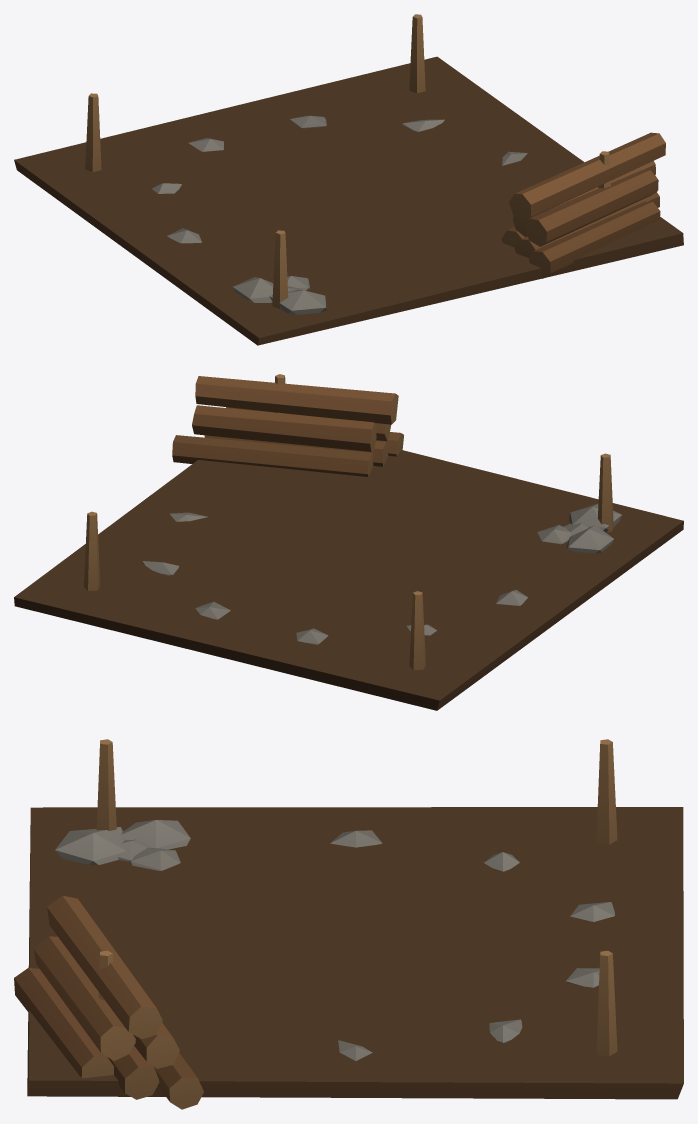
The model's file is house_0_s0.glb.
The picture shows the model from 3 angles, top to bottom: view 1: azimuth 30°, elevation 25°; view 2: azimuth 150°, elevation 25°; view 3: azimuth 270°, elevation 25°; orthographic projection. The views are drawn at different scales.
Parts seen in each view (by area): view 1: house_0_s0; view 2: house_0_s0; view 3: house_0_s0.
Part boxes in pixels (x1,y1,x2,y2): house_0_s0: (14,14,683,345); house_0_s0: (14,374,683,710); house_0_s0: (14,739,683,1109).
Bounding box in the file's own units: 2.01 × 0.3595 × 1.93.
